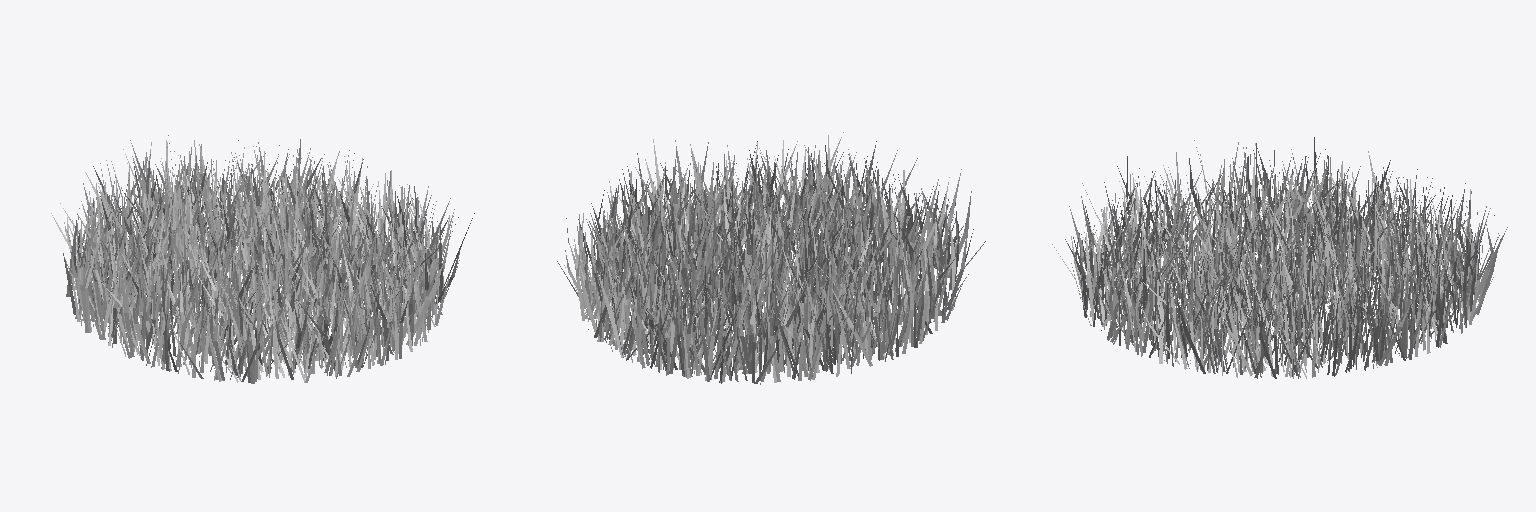
File: longgrassb.obj
3 renders of one model, left to right at view 1: azimuth 30°, elevation 25°; view 2: azimuth 150°, elevation 25°; view 3: azimuth 270°, elevation 25°, orthographic.
Parts seen in each view (by area): view 1: Grass_02:Mesh; view 2: Grass_02:Mesh; view 3: Grass_02:Mesh.
Part boxes in pixels (left/top/right/bottom): Grass_02:Mesh: left=51, top=135, right=474, bottom=383; Grass_02:Mesh: left=557, top=132, right=985, bottom=384; Grass_02:Mesh: left=1052, top=137, right=1507, bottom=378.
Bounding box in the file's own units: 7 × 1.81 × 8.06.